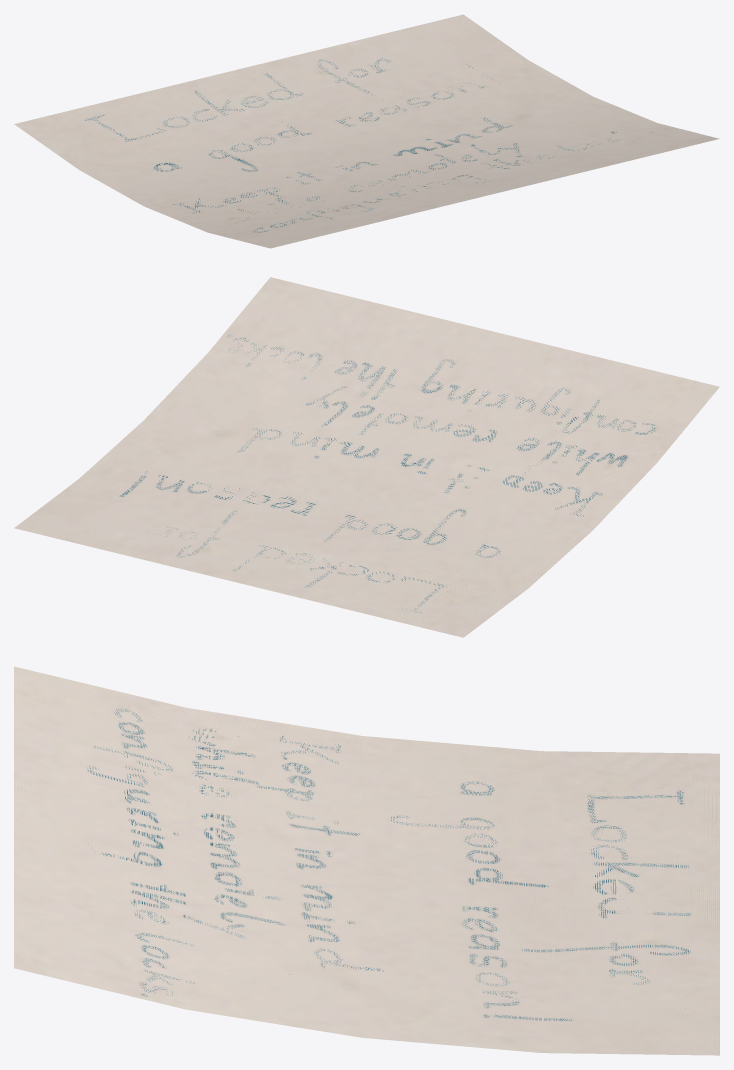
Rendered from note_postit_tau_storage.dae.
3 renders of one model, top to bottom at view 1: azimuth 30°, elevation 25°; view 2: azimuth 150°, elevation 25°; view 3: azimuth 270°, elevation 25°, orthographic. The views are drawn at different scales.
Visible parts, largest first — view 1: polySurface3; view 2: polySurface3; view 3: polySurface3.
Boxes of the visible parts, x1=… form: polySurface3: x1=14, y1=14, x2=719, y2=248; polySurface3: x1=14, y1=277, x2=719, y2=637; polySurface3: x1=14, y1=666, x2=719, y2=1055.
Size of the model in its own units: 0.25 by 0.0337 by 0.247.
